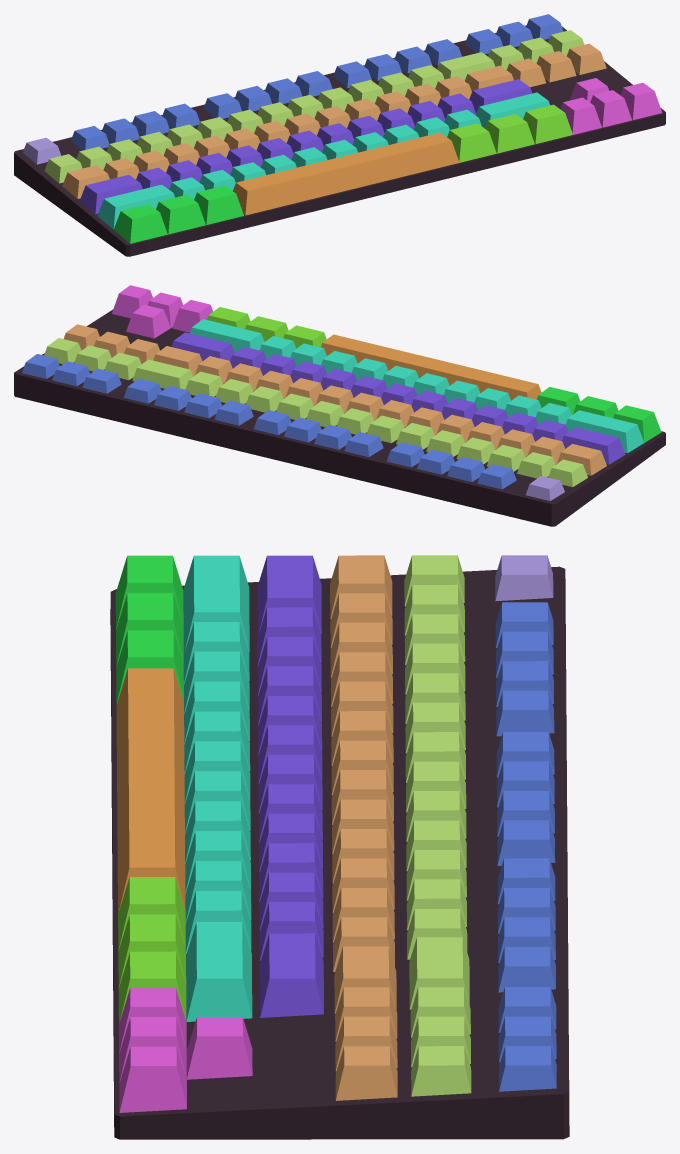
The model's file is keyboard.fbx.
The picture shows the model from 3 angles, top to bottom: view 1: azimuth 30°, elevation 25°; view 2: azimuth 150°, elevation 25°; view 3: azimuth 270°, elevation 25°; orthographic projection. The views are drawn at different scales.
Parts seen in each view (by area): view 1: Cube.044, Cube.025, Cube.024, Cube.021, Cube.026, Cube.030, Cube.027, Cube.028, Cube.029, Cube.031, Cube.022; view 2: Cube.044, Cube.024, Cube.025, Cube.021, Cube.027, Cube.026, Cube.030, Cube.031, Cube.028, Cube.029, Cube.022; view 3: Cube.044, Cube.025, Cube.024, Cube.027, Cube.026, Cube.021, Cube.030, Cube.031, Cube.028, Cube.029, Cube.022.
Part boxes in pixels (x1=…): Cube.044: x1=14, y1=25, x2=665, y2=256; Cube.025: x1=62, y1=43, x2=606, y2=198; Cube.024: x1=44, y1=30, x2=584, y2=183; Cube.021: x1=71, y1=14, x2=563, y2=150; Cube.026: x1=79, y1=79, x2=532, y2=214; Cube.030: x1=233, y1=132, x2=459, y2=215; Cube.027: x1=97, y1=92, x2=549, y2=229; Cube.028: x1=113, y1=185, x2=243, y2=243; Cube.029: x1=447, y1=104, x2=572, y2=162; Cube.031: x1=560, y1=78, x2=662, y2=134; Cube.022: x1=23, y1=137, x2=61, y2=164; Cube.044: x1=14, y1=309, x2=665, y2=526; Cube.024: x1=44, y1=338, x2=587, y2=487; Cube.025: x1=63, y1=324, x2=606, y2=475; Cube.021: x1=22, y1=354, x2=516, y2=489; Cube.027: x1=189, y1=319, x2=644, y2=453; Cube.026: x1=171, y1=332, x2=625, y2=464; Cube.030: x1=321, y1=334, x2=541, y2=400; Cube.031: x1=112, y1=285, x2=212, y2=338; Cube.028: x1=536, y1=387, x2=661, y2=442; Cube.029: x1=207, y1=307, x2=326, y2=348; Cube.022: x1=526, y1=476, x2=564, y2=500; Cube.044: x1=110, y1=566, x2=569, y2=1139; Cube.025: x1=330, y1=555, x2=397, y2=1100; Cube.024: x1=404, y1=555, x2=471, y2=1096; Cube.027: x1=183, y1=555, x2=252, y2=1021; Cube.026: x1=257, y1=555, x2=323, y2=1017; Cube.021: x1=495, y1=602, x2=556, y2=1091; Cube.030: x1=116, y1=668, x2=185, y2=913; Cube.031: x1=119, y1=987, x2=252, y2=1112; Cube.028: x1=115, y1=555, x2=183, y2=704; Cube.029: x1=118, y1=877, x2=186, y2=1023; Cube.022: x1=495, y1=555, x2=553, y2=601.
Bounding box in the file's own units: 35.93 × 2.08 × 13.2.
